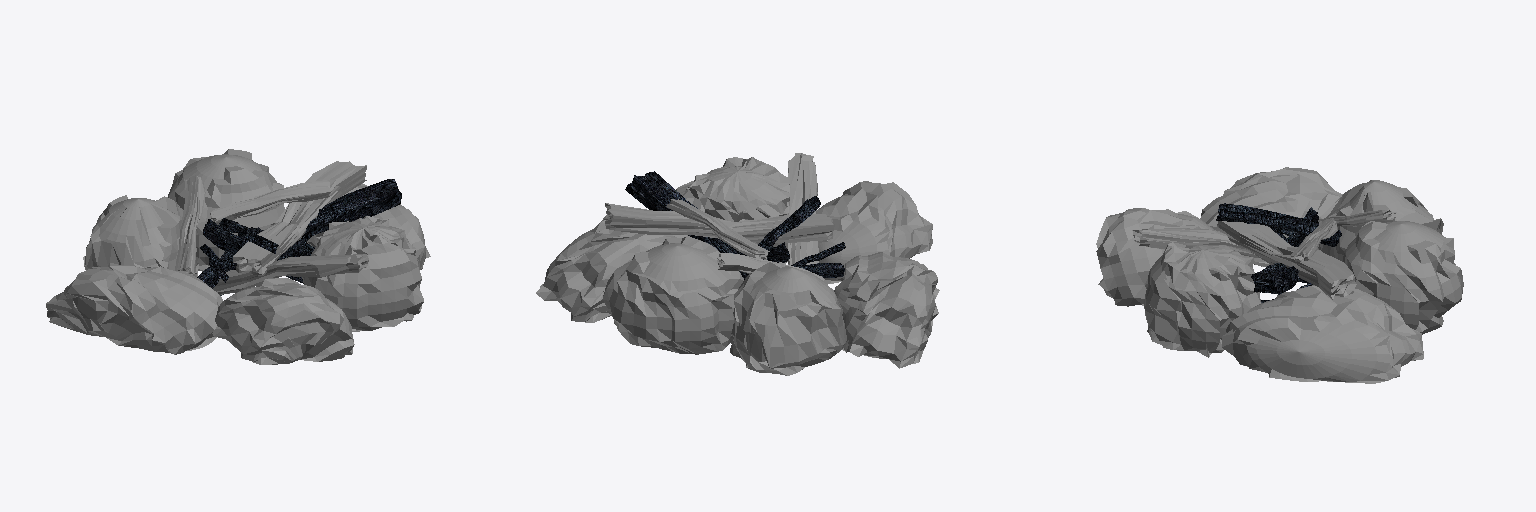
3 renders of one model, left to right at view 1: azimuth 30°, elevation 25°; view 2: azimuth 150°, elevation 25°; view 3: azimuth 270°, elevation 25°, orthographic.
Parts seen in each view (by area): view 1: Sphere008, Sphere004, Sphere005, Sphere007, Sphere003, Box033, Box035, Box034, Box026, Box031, Sphere006, Box029 (+2 smaller); view 2: Sphere003, Sphere007, Sphere008, Sphere004, Sphere006, Sphere005, Box033, Box035, Box034, Box026, Box032, Box031; view 3: Sphere006, Sphere005, Sphere003, Sphere004, Sphere008, Box033, Sphere007, Box035, Box032, Box034, Box026, Box031.
Part boxes in pixels (x1,y1,x2,y2): Sphere008: (46,263,222,354); Sphere004: (212,278,354,364); Sphere005: (302,216,423,331); Sphere007: (83,195,198,276); Sphere003: (168,149,284,271); Box033: (233,161,366,275); Box035: (213,253,368,294); Box034: (220,179,401,295); Box026: (210,180,331,224); Box031: (175,175,205,273); Sphere006: (307,183,430,269); Box029: (203,219,303,283); Sphere003: (602,236,743,354); Sphere007: (730,262,848,375); Sphere008: (834,252,939,368); Sphere004: (817,181,932,283); Sphere006: (536,215,689,322); Sphere005: (676,157,789,263); Box033: (604,203,834,242); Box035: (787,153,818,265); Box034: (625,171,748,279); Box026: (666,199,769,259); Box032: (758,196,820,250); Box031: (717,253,824,280); Sphere006: (1222,285,1423,383); Sphere005: (1144,242,1260,357); Sphere003: (1343,221,1463,334); Sphere004: (1096,208,1213,306); Sphere008: (1200,167,1342,266); Box033: (1215,221,1356,299); Sphere007: (1317,180,1443,261); Box035: (1132,228,1269,266); Box032: (1216,203,1341,246); Box034: (1251,263,1309,294); Box026: (1291,218,1337,261); Box031: (1318,210,1396,226).
Bounding box in the file's own units: 145 × 35.96 × 128.
3 materials, 1 textured.